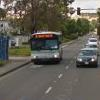Bus: (25, 29, 65, 69)
